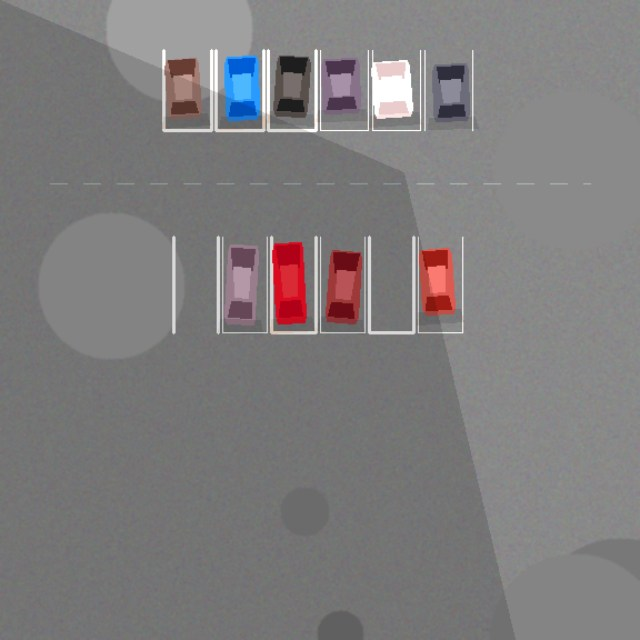space-empty: (173, 237, 218, 332), (369, 237, 413, 332)
space-occupied: (222, 237, 267, 332), (271, 237, 316, 332), (320, 237, 364, 332), (418, 237, 462, 332), (163, 50, 211, 130), (268, 50, 316, 130), (320, 50, 368, 130), (372, 50, 420, 130), (424, 50, 472, 130), (216, 50, 263, 130)
